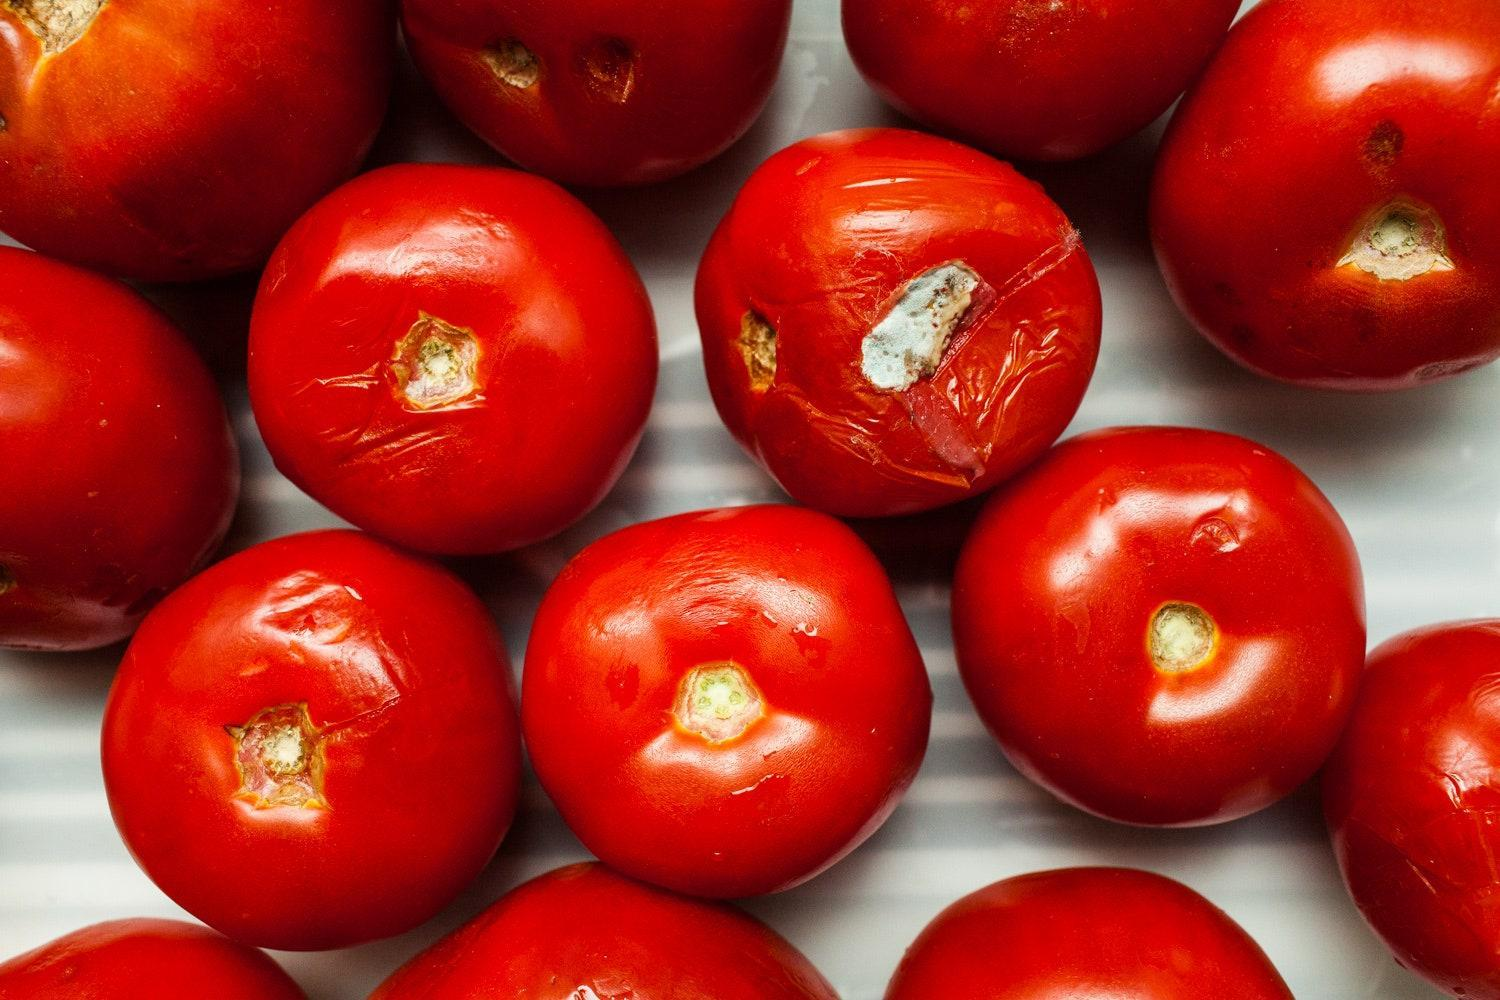healthy-tomato: (98, 536, 528, 956), (956, 429, 1372, 835), (246, 165, 664, 562), (527, 512, 937, 907), (1147, 29, 1500, 396), (1, 239, 243, 661), (364, 866, 844, 1000), (879, 868, 1300, 1000), (1, 920, 306, 1000)
